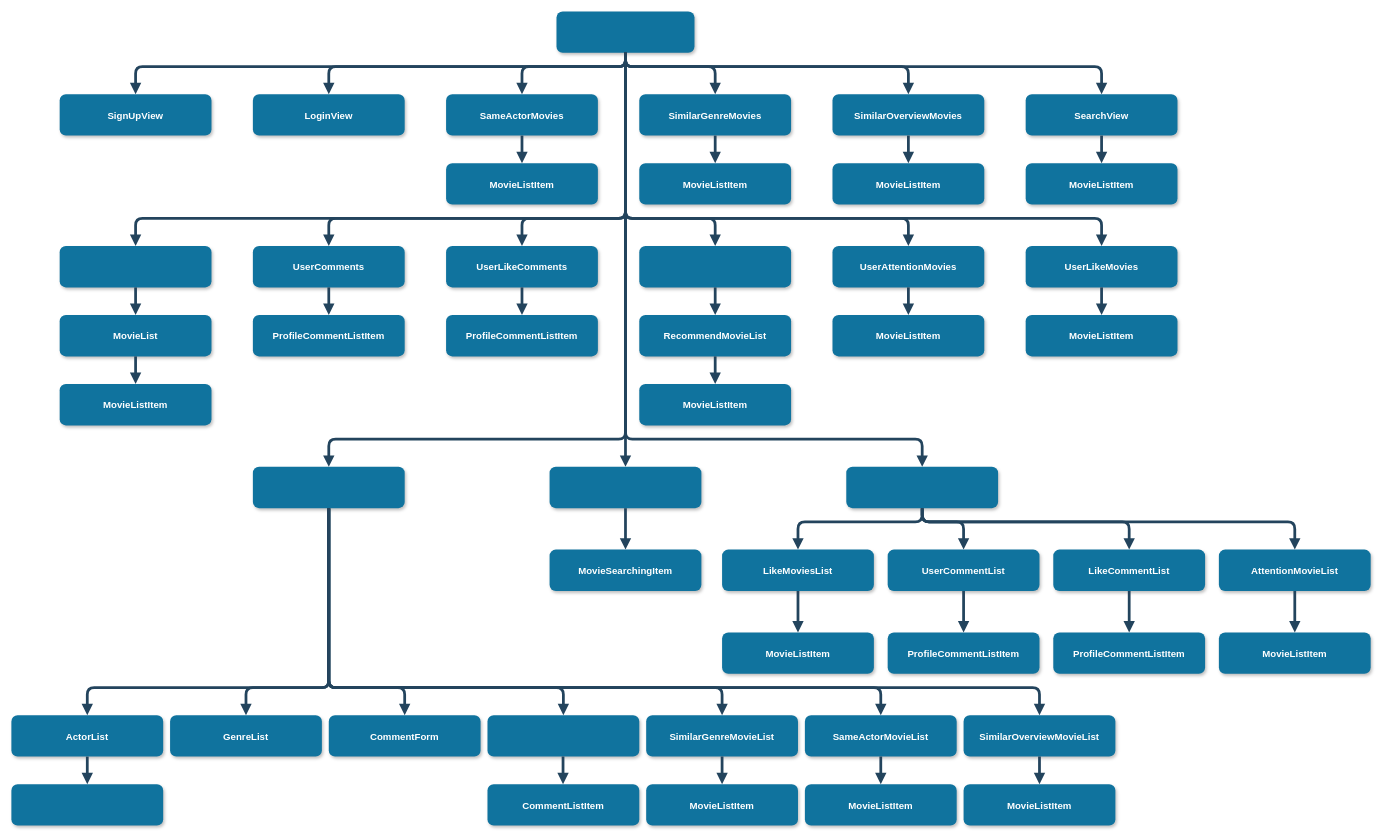
Image size: 1382x837. Some labels were removed from this diagram. Each missing label, with the centre of its shape:
"ActorListItem" belongs at (87,805).
"App" belongs at (625,32).
"CommentList" belongs at (563,736).
"DetailView" belongs at (329,488).
"MainView" belongs at (136,267).
"MovieSearching" belongs at (625,488).
"ProfileView" belongs at (922,488).
"RecommendView" belongs at (715,267).
